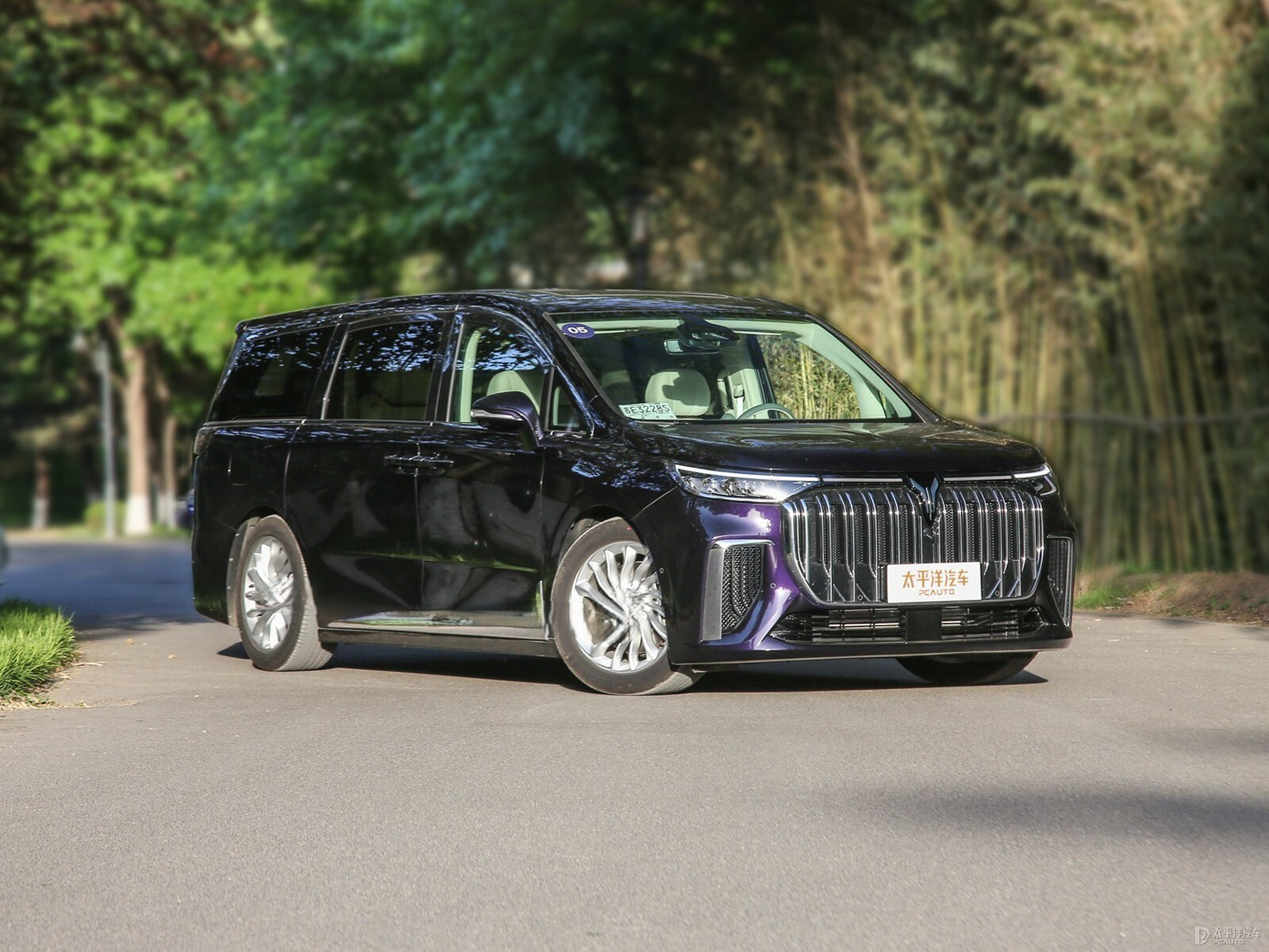VOYAH: (911, 478, 938, 520)
